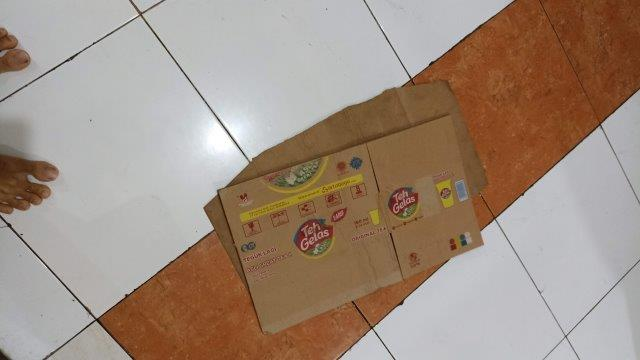kardus: (202, 80, 481, 321)
